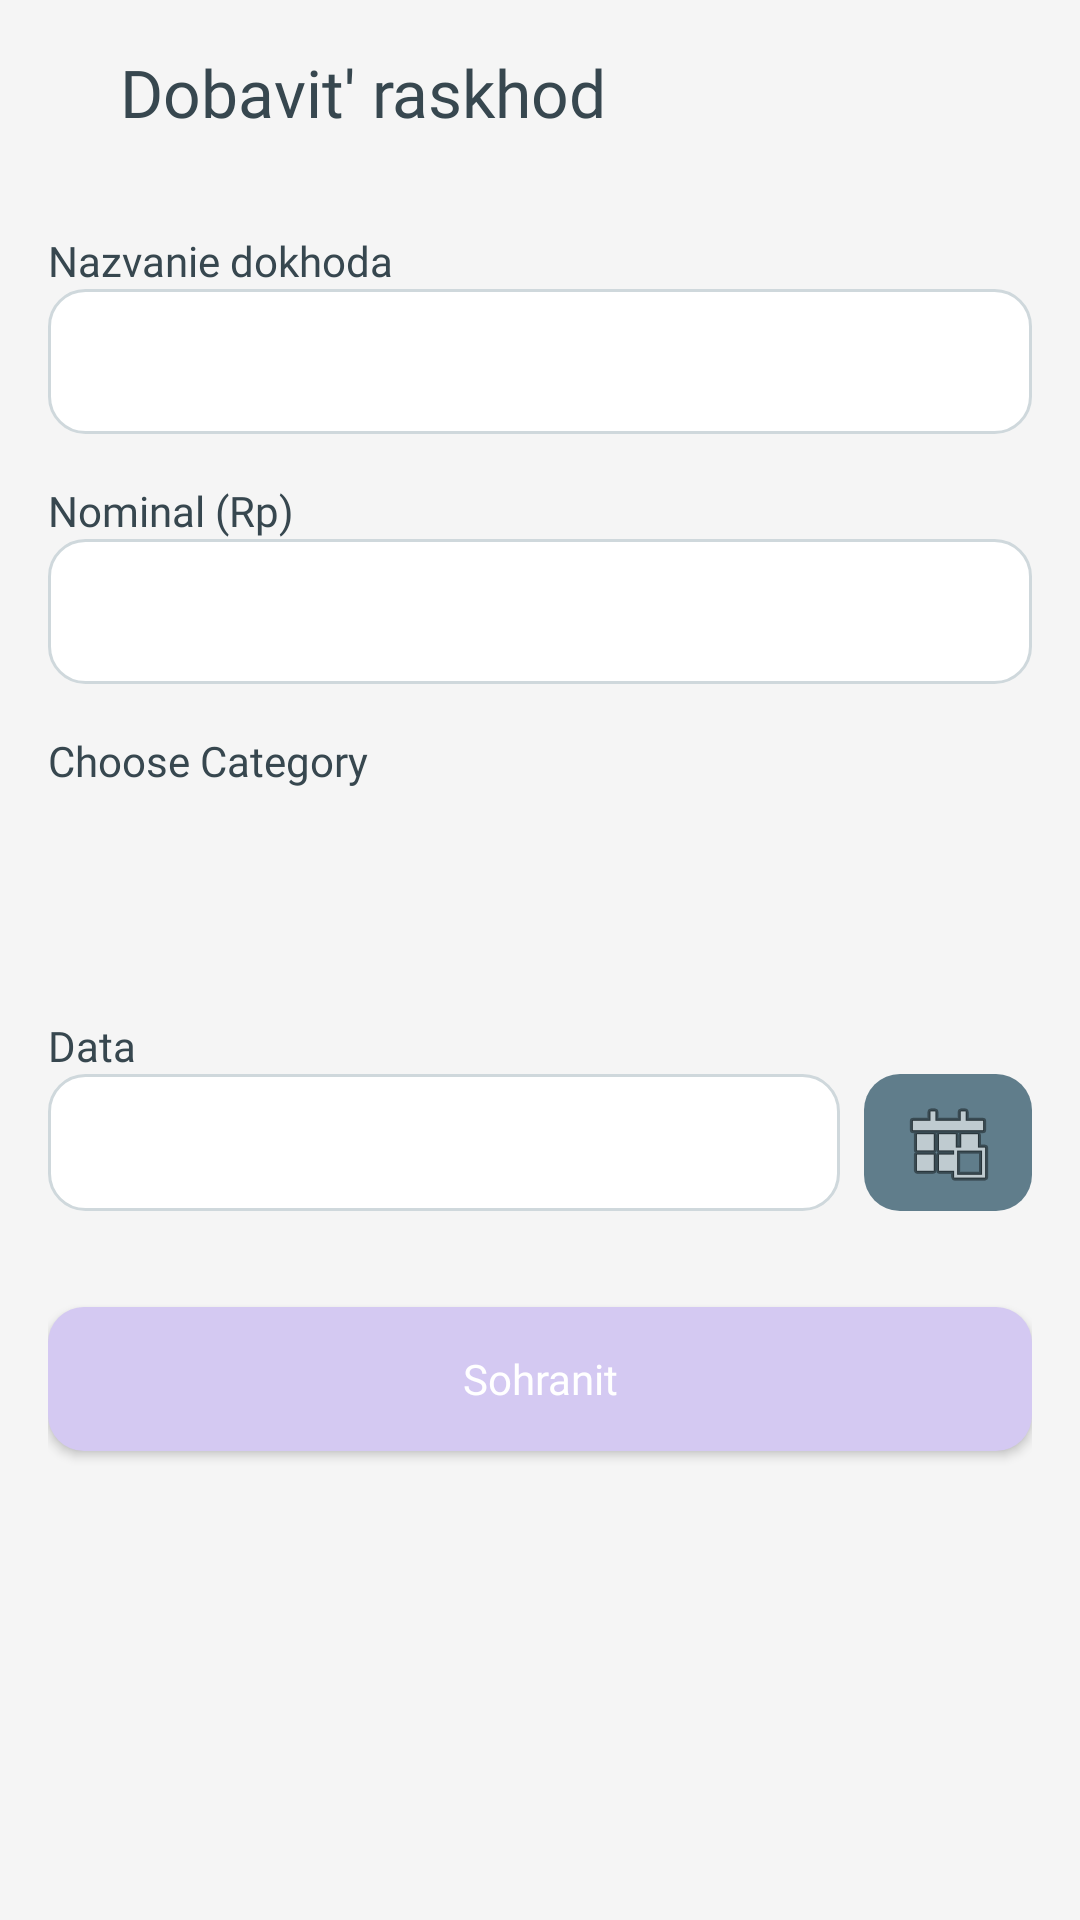

Icon bounding boxes for this 1080 × 1920 phone screenshot, format detection(x1, y1, x2, y2):
Pilih Tanggal: detection(864, 1074, 1032, 1211)
